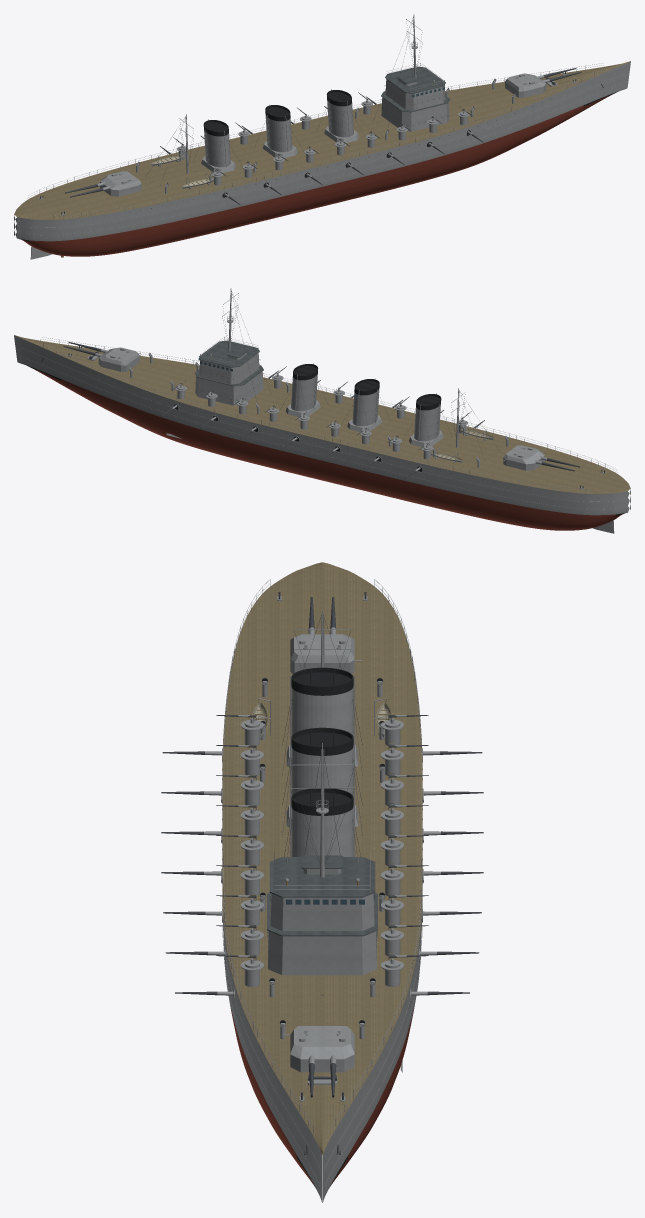
The model's file is braunschweig_bb.glb.
3 renders of one model, top to bottom at view 1: azimuth 30°, elevation 25°; view 2: azimuth 150°, elevation 25°; view 3: azimuth 270°, elevation 25°, orthographic. The views are drawn at different scales.
Visible parts, largest first — view 1: Braunschweig class; view 2: Braunschweig class; view 3: Braunschweig class.
Boxes of the visible parts, x1=… form: Braunschweig class: x1=14, y1=14, x2=630, y2=259; Braunschweig class: x1=14, y1=288, x2=630, y2=533; Braunschweig class: x1=161, y1=562, x2=483, y2=1202.
Size of the model in its own units: 156 by 37.31 by 35.36.
9 materials, 8 textured.
